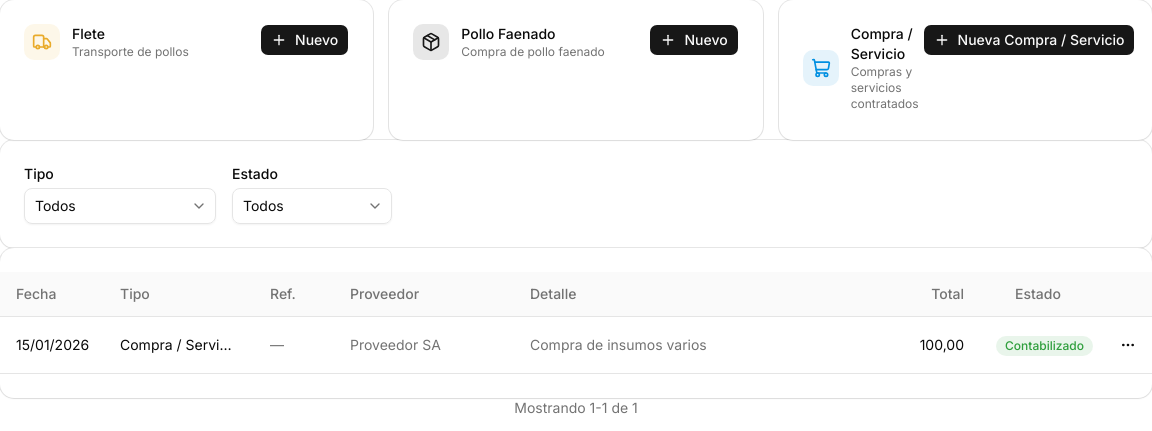
PurchaseList — filter unification (T7.3/T7.4 REQ-C.2) › C.2.1 — filter dropdown has item 'Compras y Servicios' covering both types
This screenshot has width=1152, height=431.
Click the 1st dropdown labelled "Todos": x=120, y=206 [24,188,216,224]
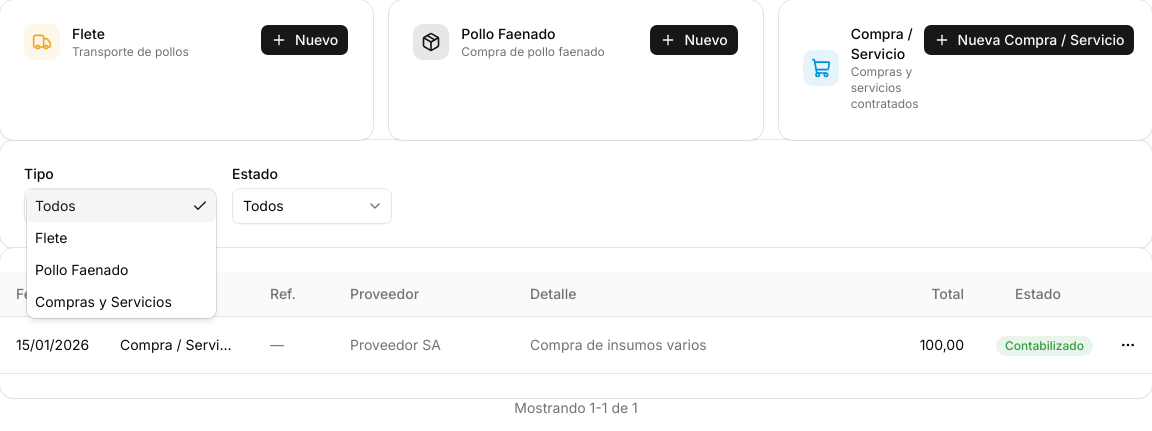
Check: the option "Compras y Servicios" is shown, box [35,293,172,310]
